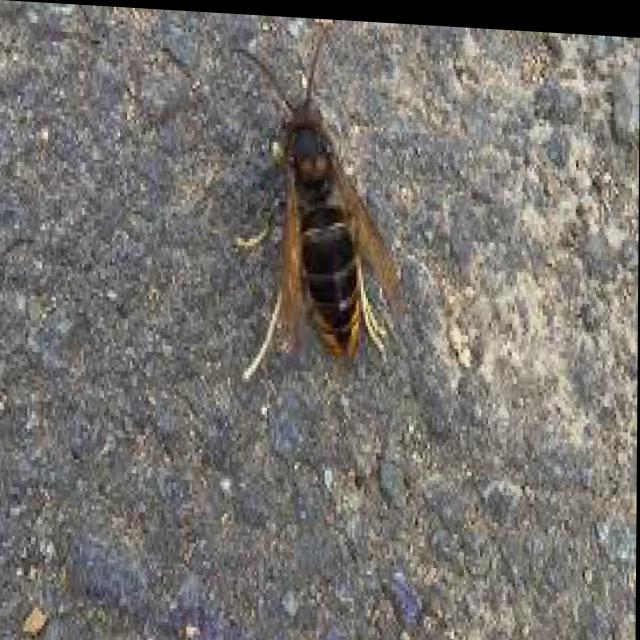Vespa Velutina: (214, 10, 408, 399)
